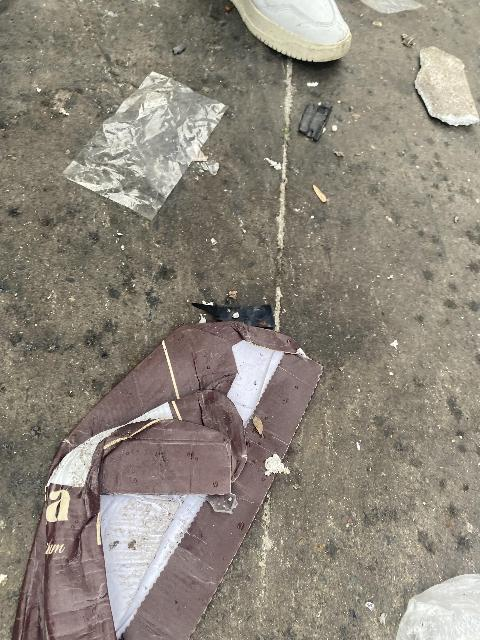Kagit: (10, 321, 325, 640)
Plastik: (63, 71, 232, 223)
